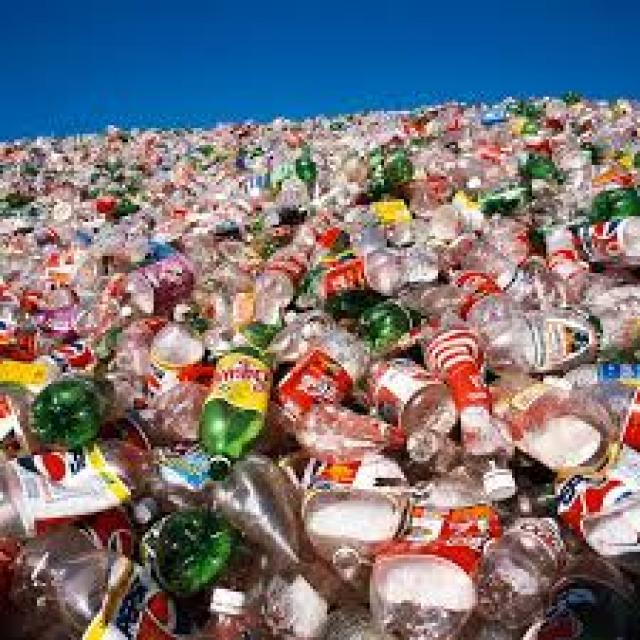plastic_bottle: (164, 311, 297, 481), (341, 193, 448, 328), (127, 495, 252, 596), (26, 364, 123, 459)
